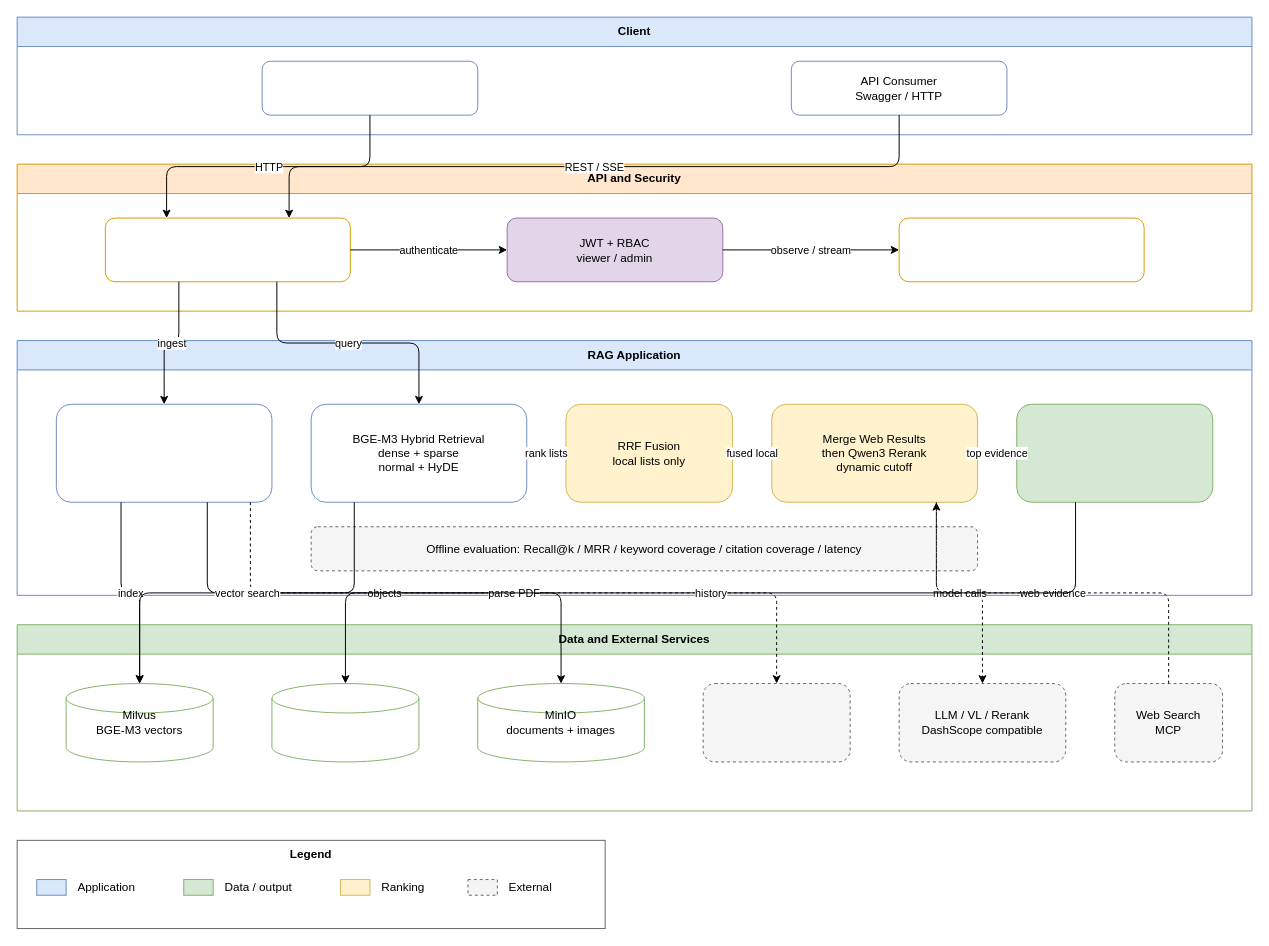
Image size: 1269x946. Some labels were removed from this diagram. The shapes that lost their labels are listed below. From the top down, each one's centre as x and y in pixels, then its label:
At point 369,87: "Showcase Web UI /demo".
At point 227,249: "Unified FastAPI upload / query / history".
At point 1021,249: "SSE + Request ID health / JSON logs".
At point 163,452: "Import LangGraph PDF/MD → MinerU/OCR image understanding → chunk".
At point 1114,452: "Grounded Answer [n] citations + images session persistence".
At point 345,722: "MongoDB chat history".
At point 776,722: "MinerU PDF parsing".
